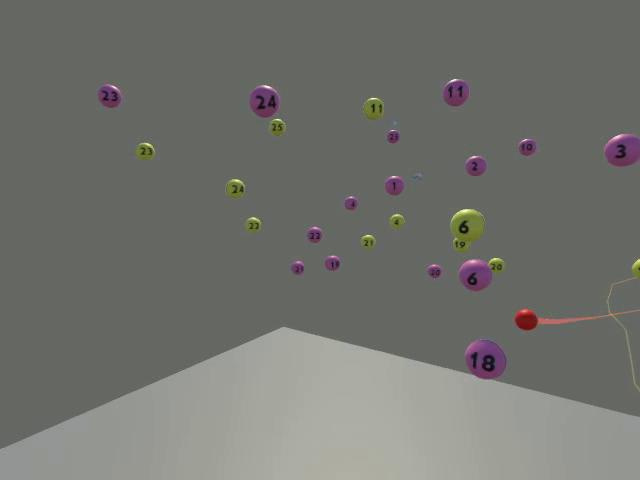ball_01_pink: (384, 175, 404, 195)
ball_02_pink: (465, 155, 486, 176)
ball_03_pink: (603, 133, 639, 166)
ball_04_pink: (343, 196, 358, 211)
ball_04_yellow: (390, 213, 405, 229)
ball_06_pink: (459, 259, 492, 291)
ball_06_yellow: (449, 208, 484, 242)
ball_10_pink: (518, 140, 536, 155)
ball_11_pink: (442, 79, 469, 106)
ball_11_yellow: (362, 97, 383, 119)
ball_18_pink: (464, 339, 506, 379)
ball_19_pink: (324, 256, 340, 271)
ball_19_yellow: (452, 237, 470, 251)
ball_20_pink: (427, 264, 442, 278)
ball_20_yellow: (488, 257, 505, 272)
ball_21_pink: (291, 261, 305, 275)
ball_21_yellow: (360, 233, 375, 248)
ball_22_pink: (306, 227, 322, 242)
ball_22_yellow: (244, 218, 260, 233)
ball_23_pink: (97, 84, 122, 107)
ball_23_yellow: (135, 142, 154, 160)
ball_24_pink: (249, 85, 280, 117)
ball_24_yellow: (224, 178, 244, 198)
ball_25_pink: (386, 129, 401, 144)
ball_25_yellow: (268, 118, 285, 136)
ball_unknown: (631, 258, 639, 279)
user_cursor: (514, 308, 537, 330)
